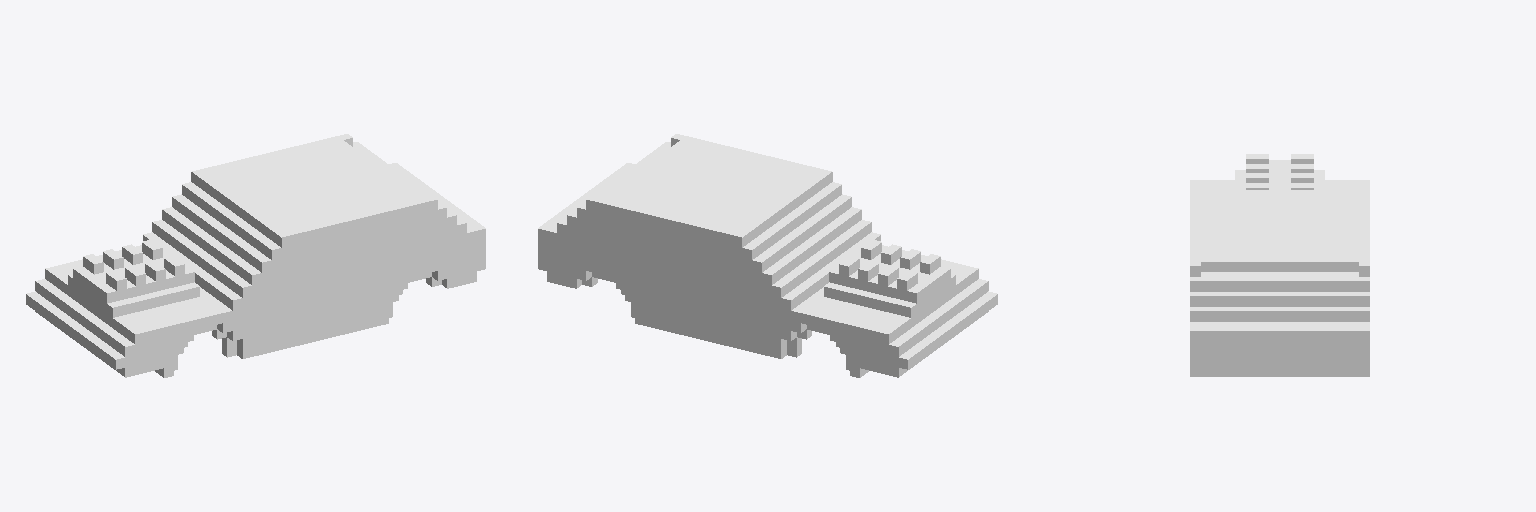
File: hotrod.obj
3 renders of one model, left to right at view 1: azimuth 30°, elevation 25°; view 2: azimuth 150°, elevation 25°; view 3: azimuth 270°, elevation 25°, orthographic.
Visible parts, largest first — view 1: object 1; view 2: object 1; view 3: object 1.
Boxes of the visible parts, x1=… form: object 1: x1=26, y1=134, x2=485, y2=377; object 1: x1=538, y1=134, x2=997, y2=377; object 1: x1=1190, y1=154, x2=1369, y2=376.
Size of the model in its own units: 3.8 by 1.1 by 1.6.